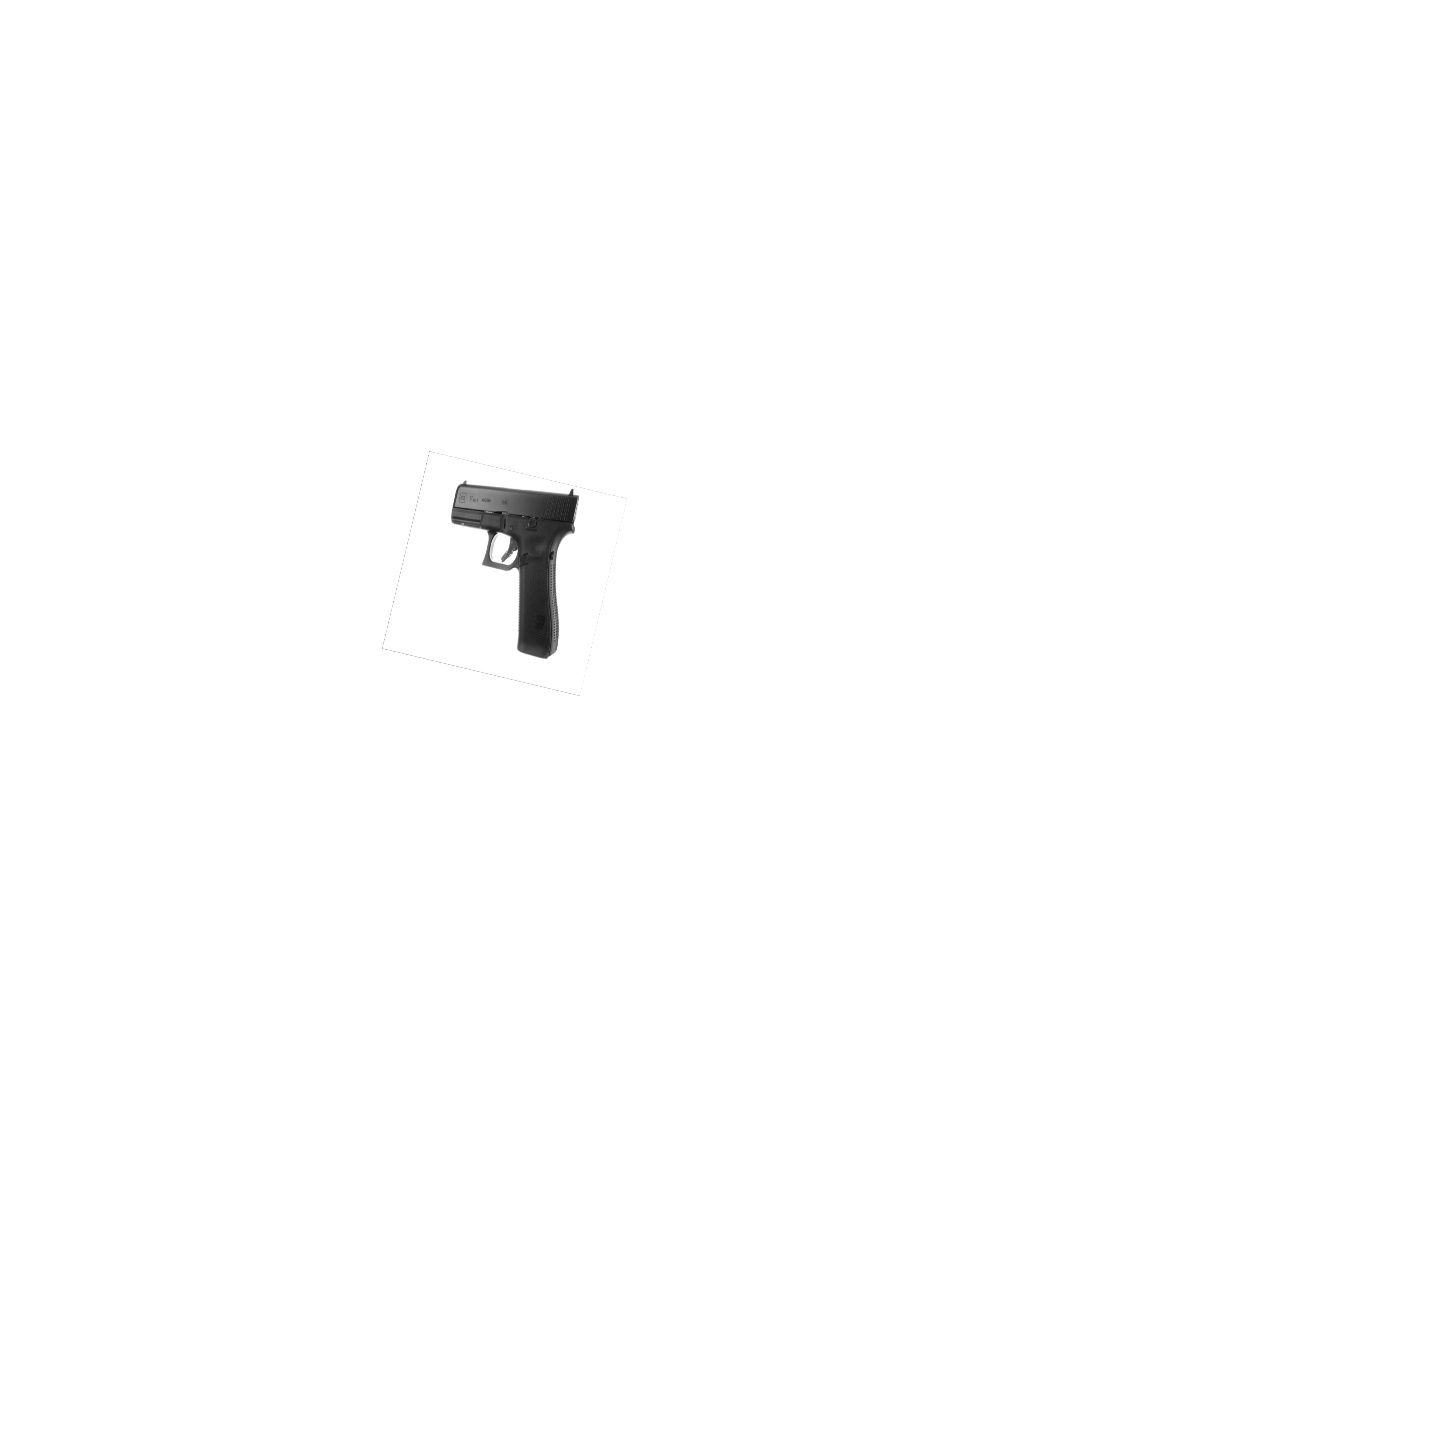gun: (437, 479, 582, 666)
